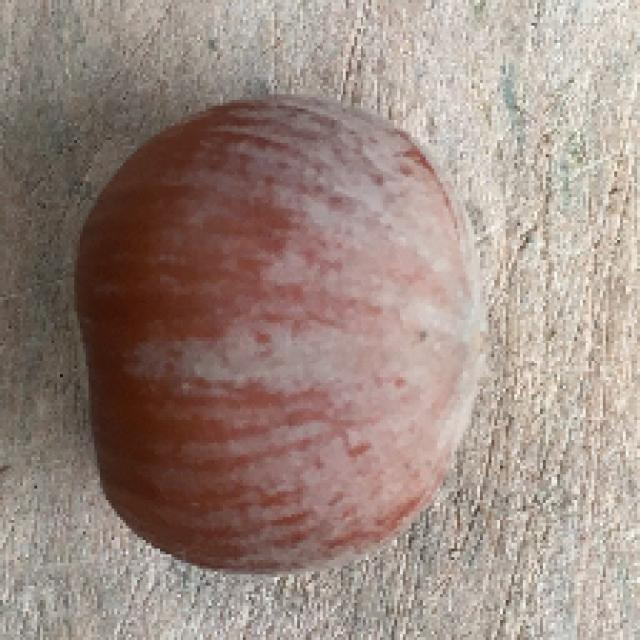qualityHazelnut: (64, 89, 496, 572)
